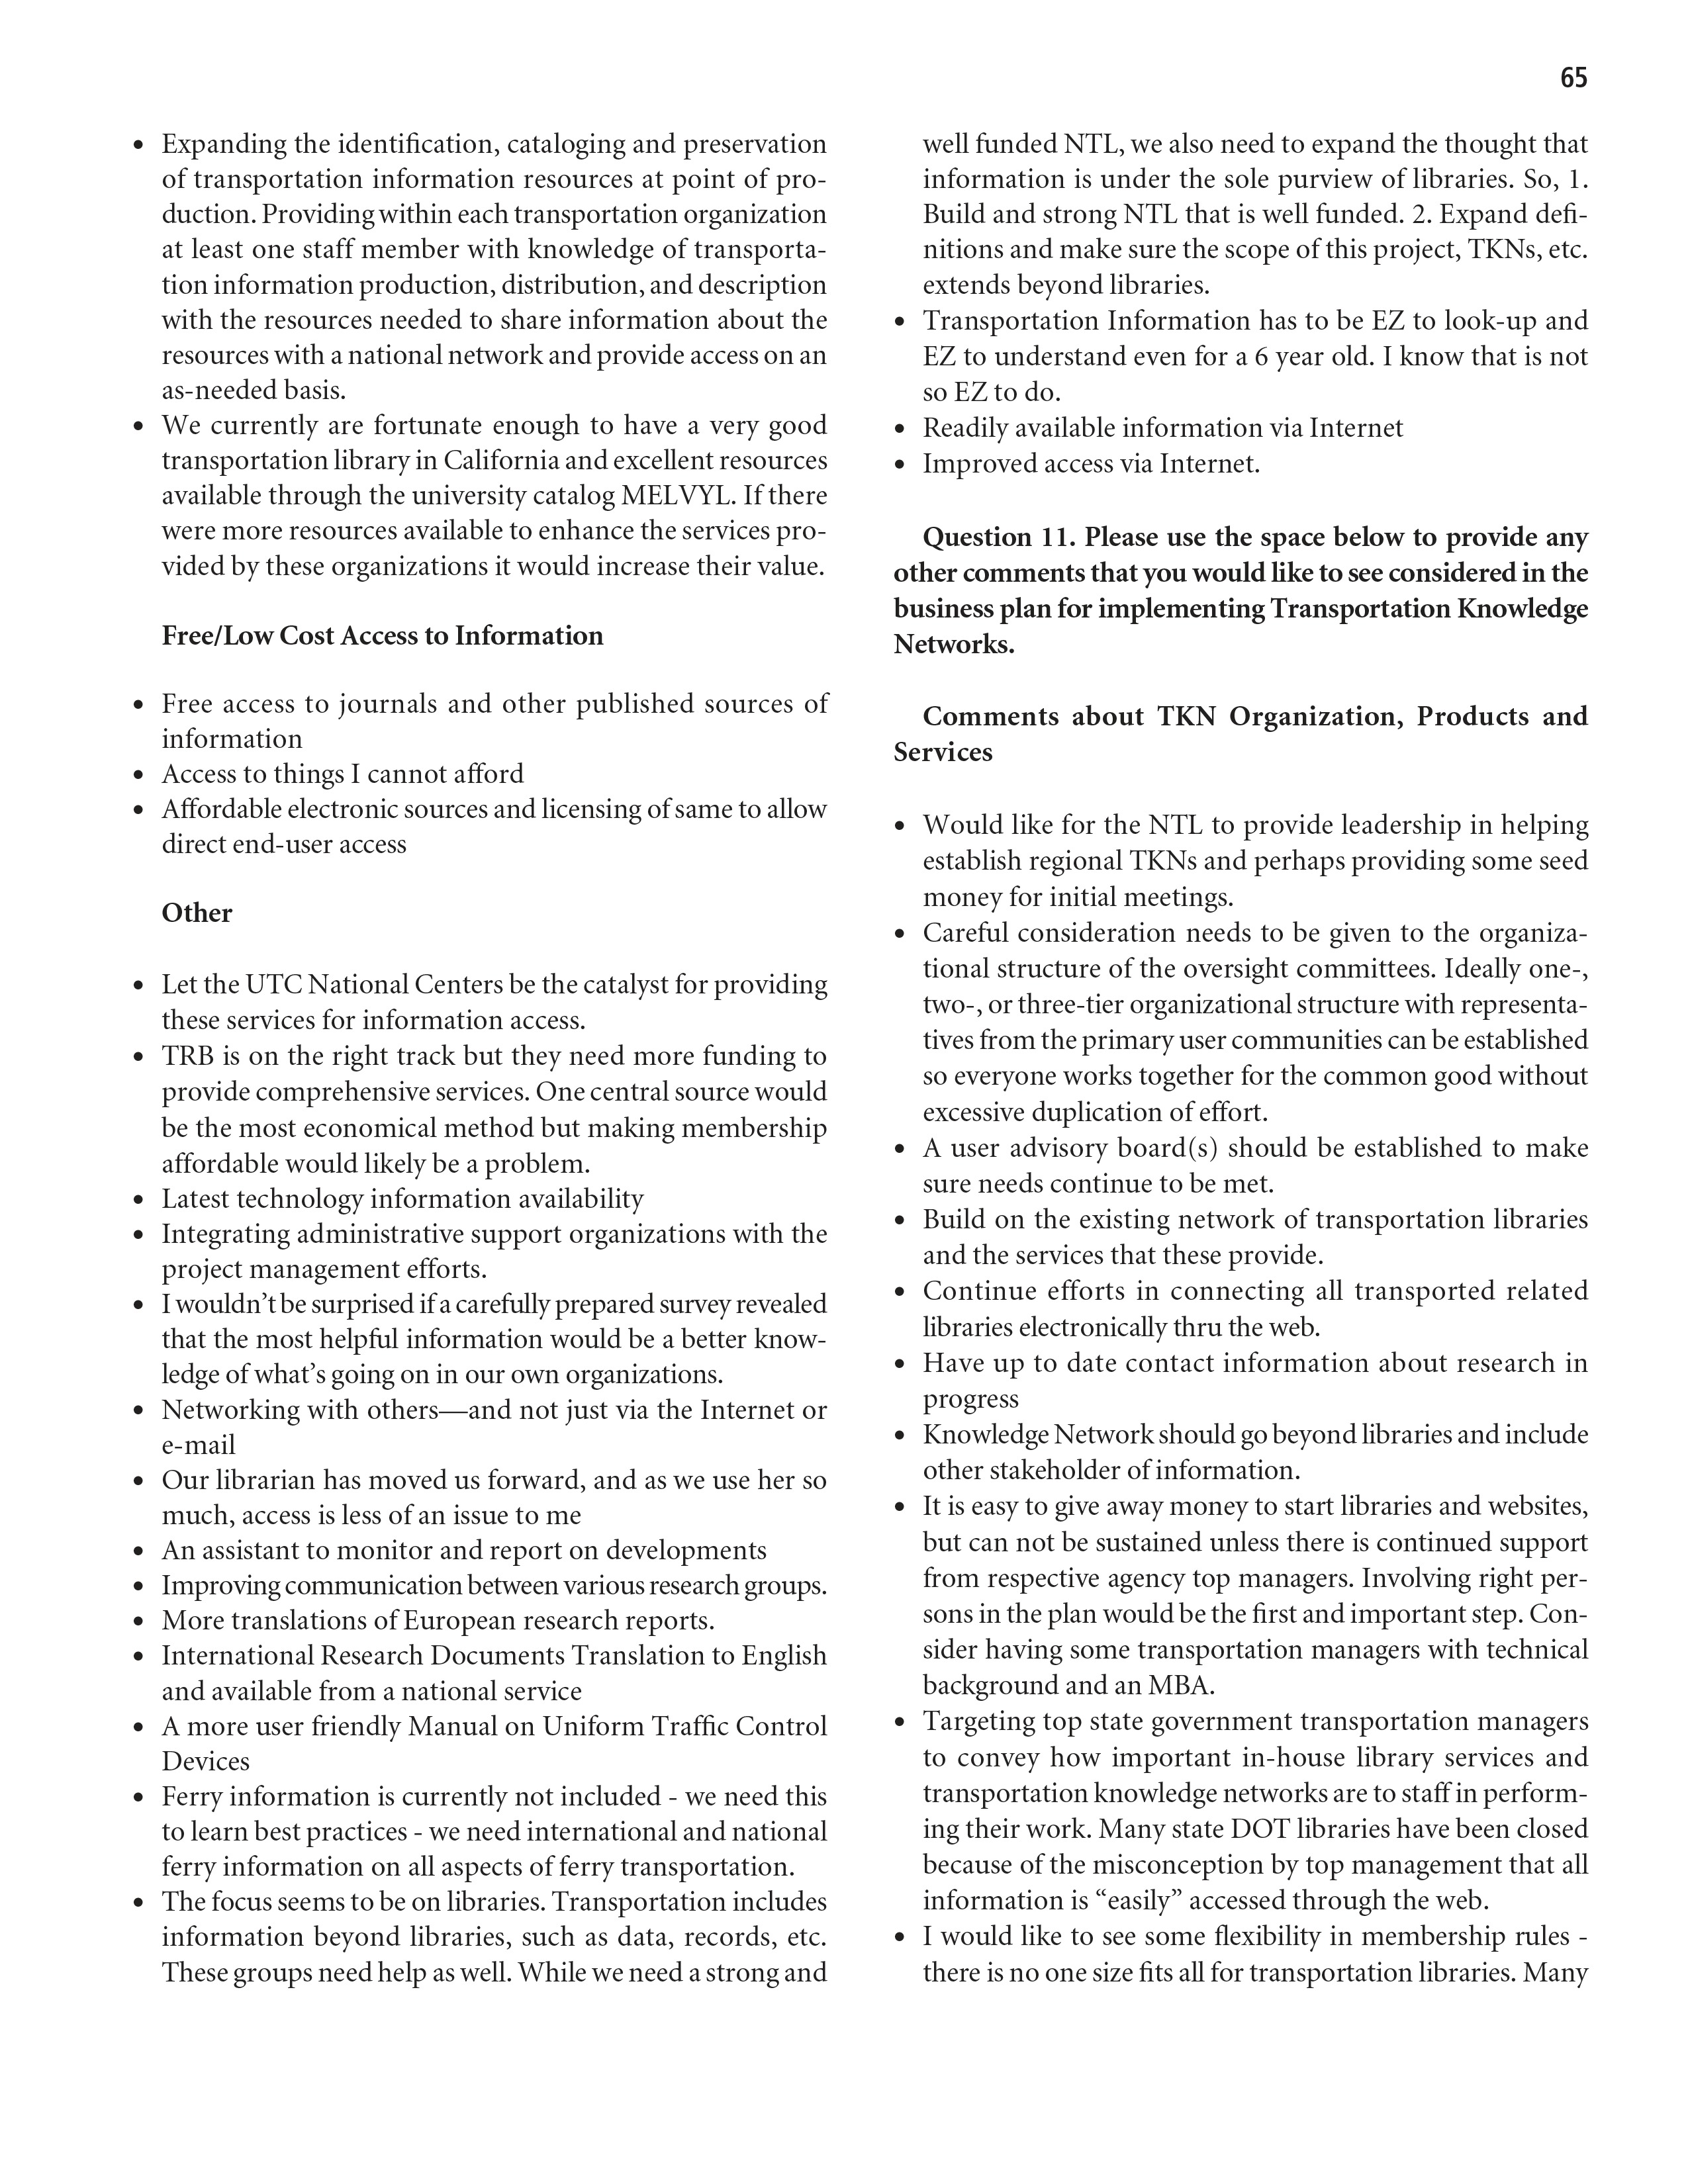list: (876, 796, 1633, 1998), (112, 948, 833, 2001), (119, 106, 846, 608), (879, 115, 1603, 489), (119, 670, 856, 856)
section: (879, 700, 1596, 762), (138, 612, 661, 651), (142, 888, 257, 932)
text: (887, 505, 1610, 661)
